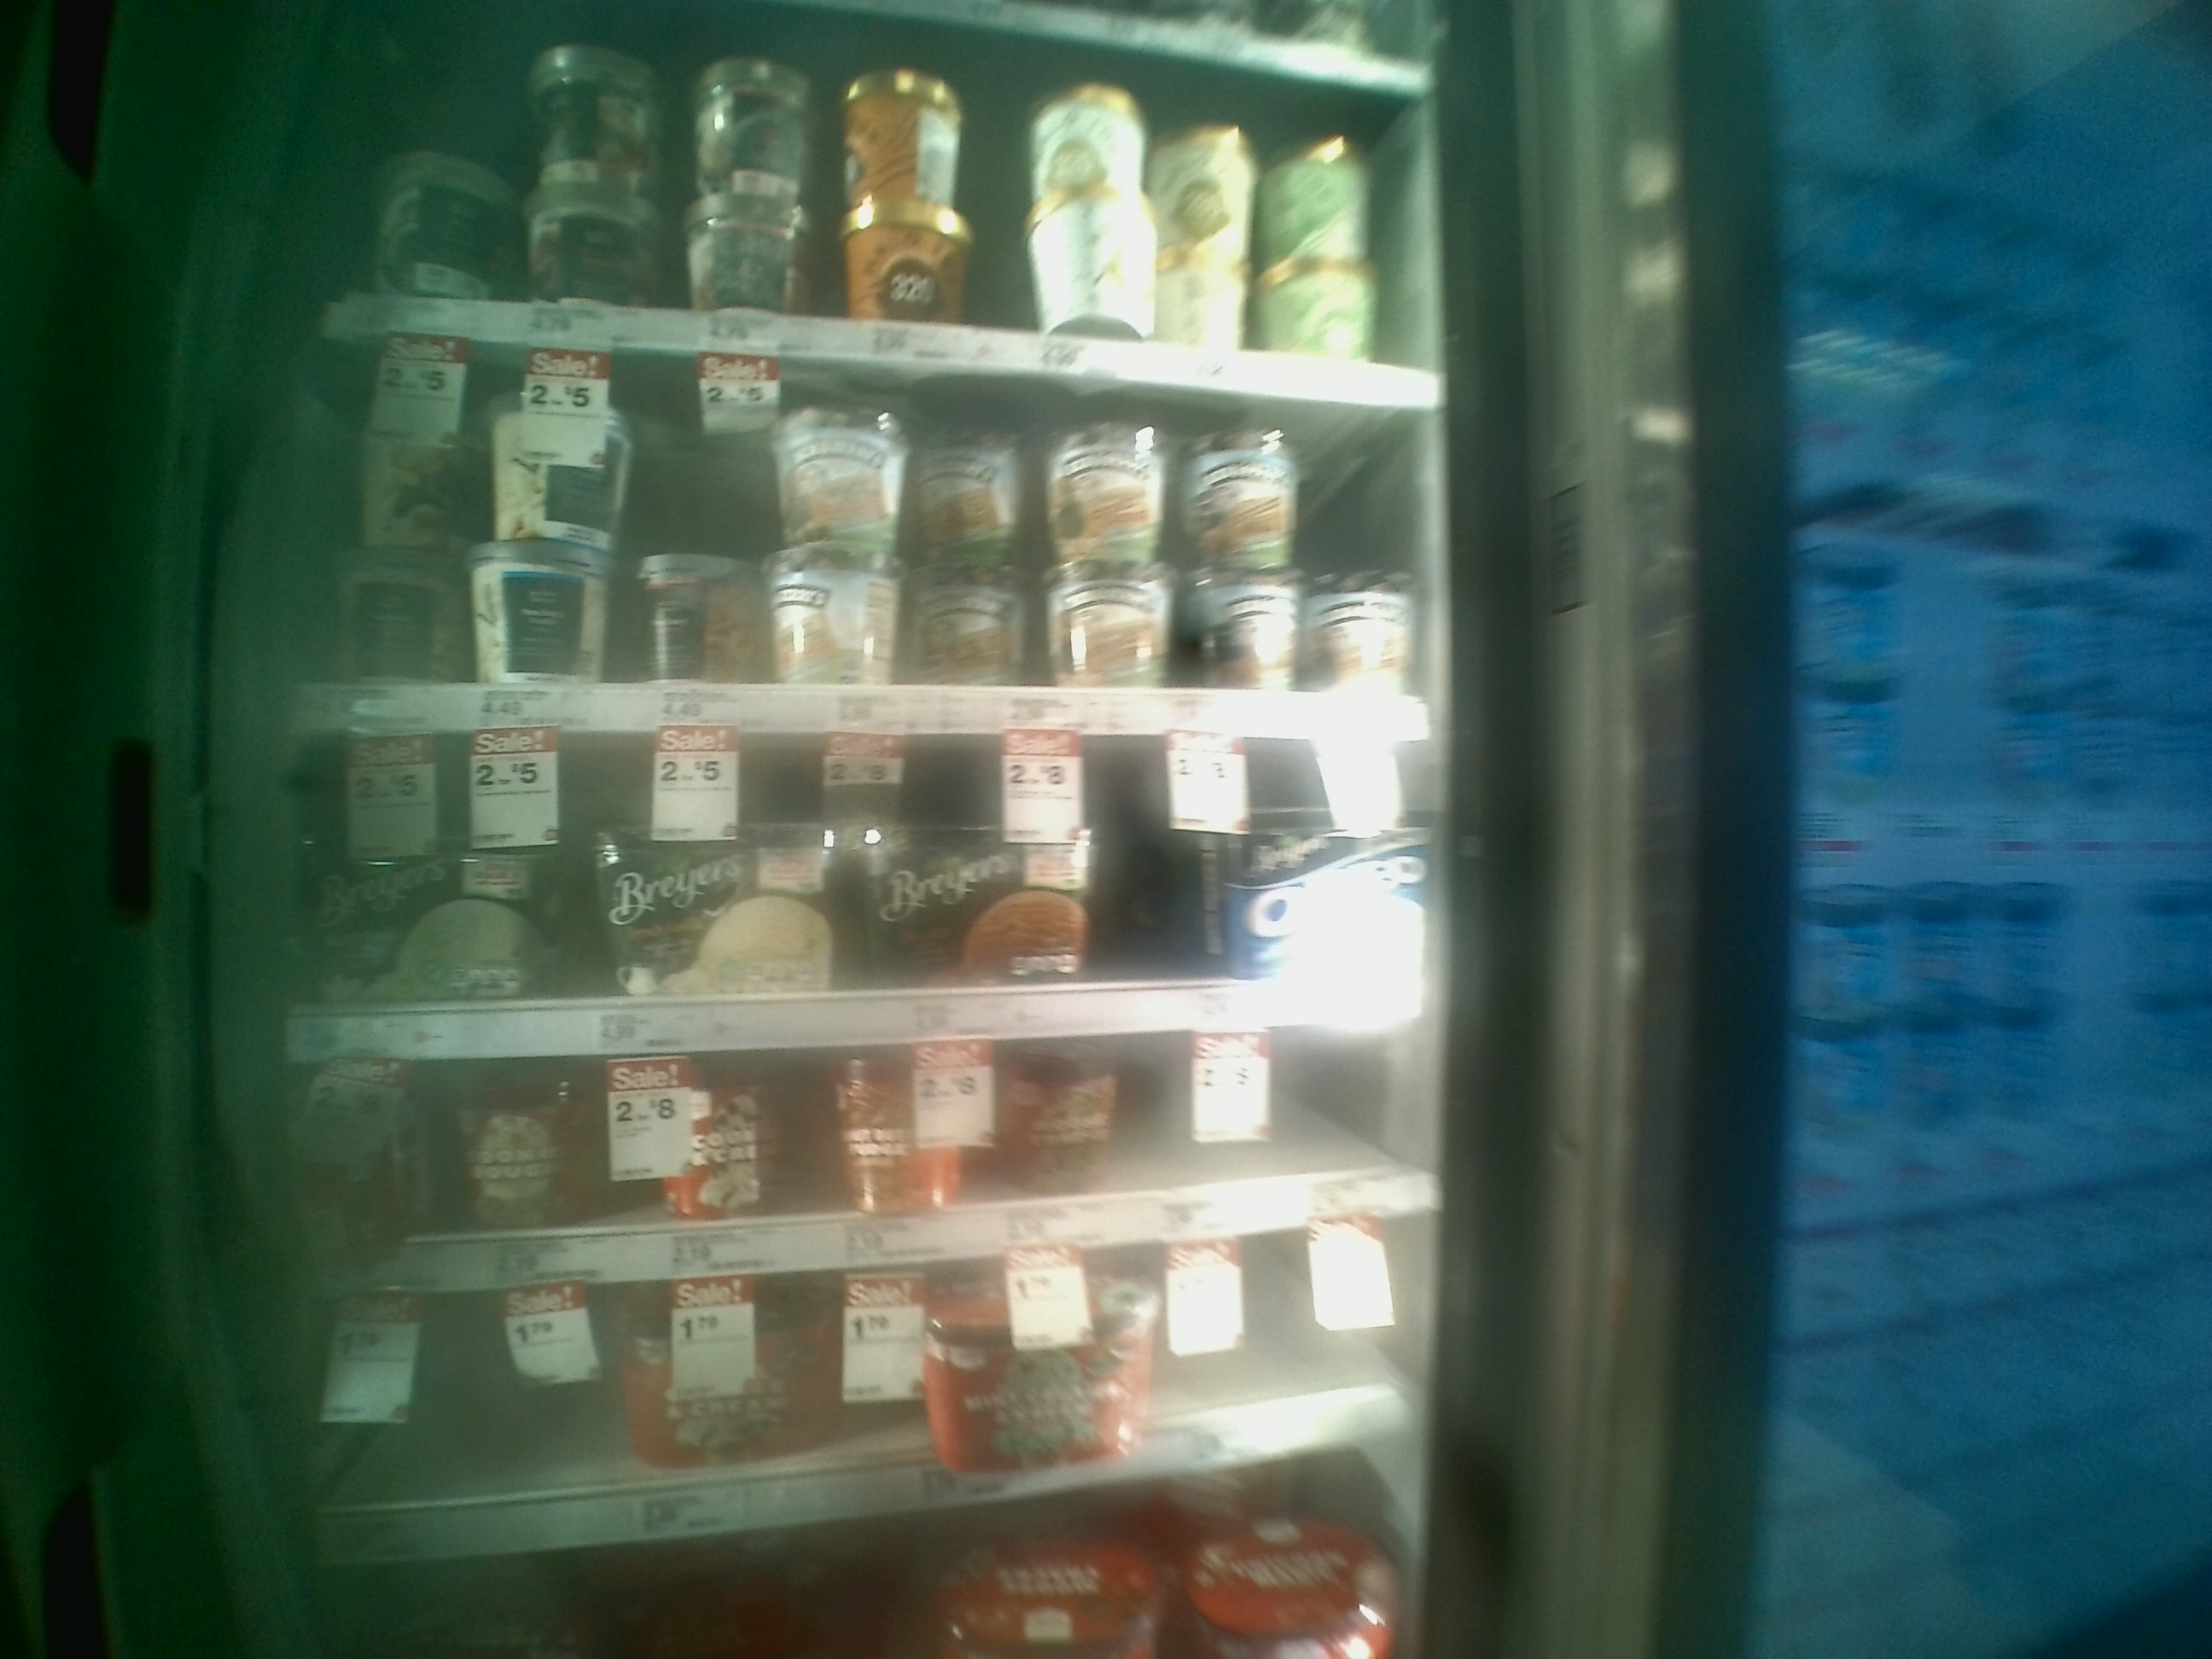shelf: (294, 328, 1458, 727), (280, 728, 1458, 1058), (294, 1018, 1446, 1300)
